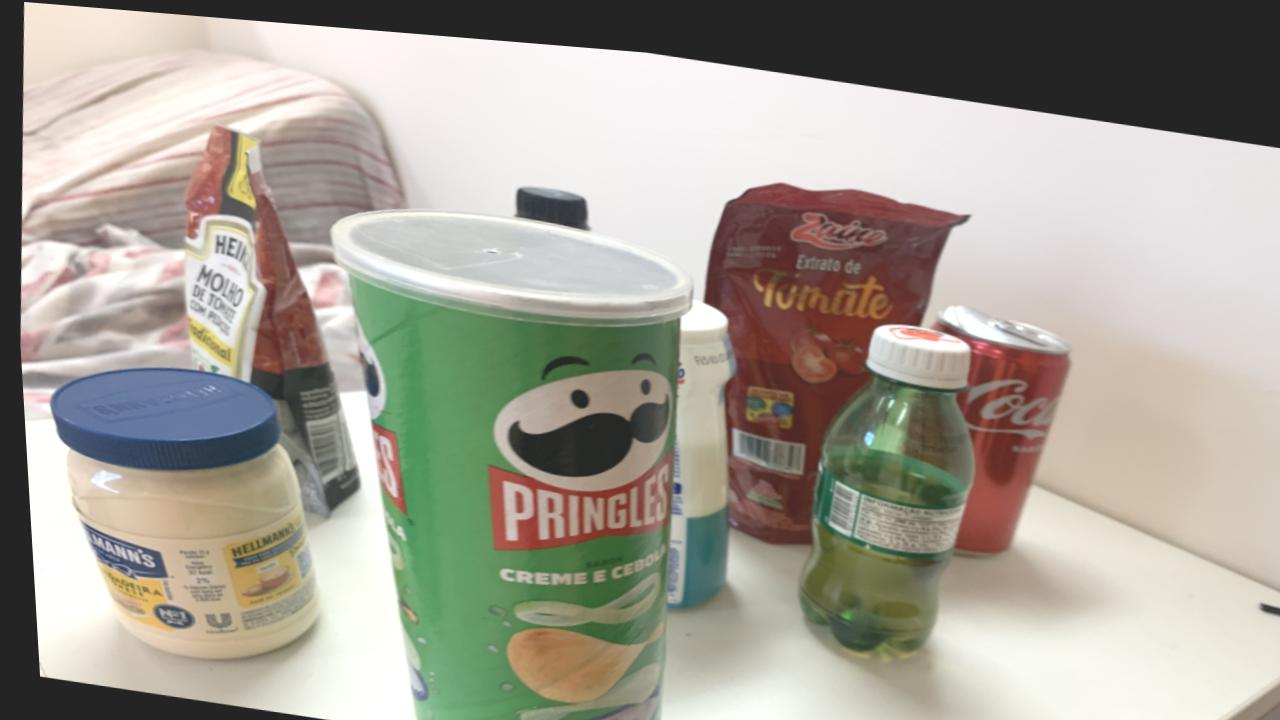Cleaner-Cleanup_Items: (660, 288, 731, 597)
Coke-Drinks: (930, 288, 1068, 537)
Guarana-Drinks: (793, 308, 970, 640)
Mayonnaise-Pantry_Items: (47, 365, 311, 655)
Pringles-Snacks: (329, 202, 690, 720)
Soda-Drinks: (513, 176, 586, 220)
Tomato_Sauce-Pantry_Items: (702, 170, 968, 530), (182, 122, 354, 509)
